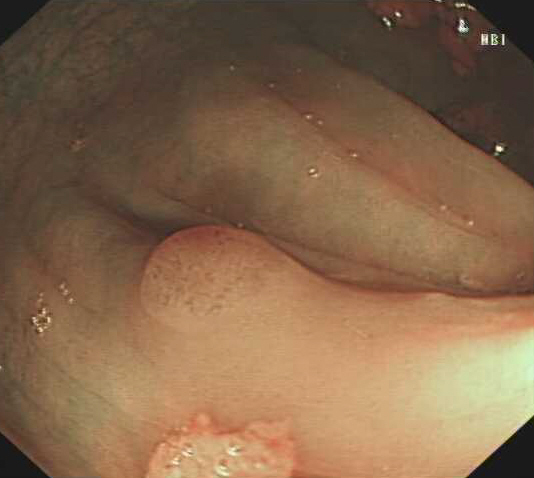adenoma: (135, 219, 306, 336)
